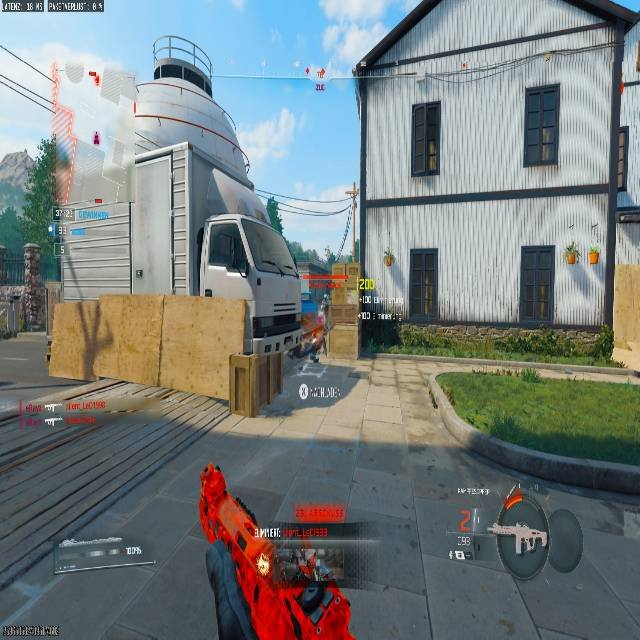player: (270, 540, 357, 639), (355, 288, 391, 357), (319, 293, 330, 323)
